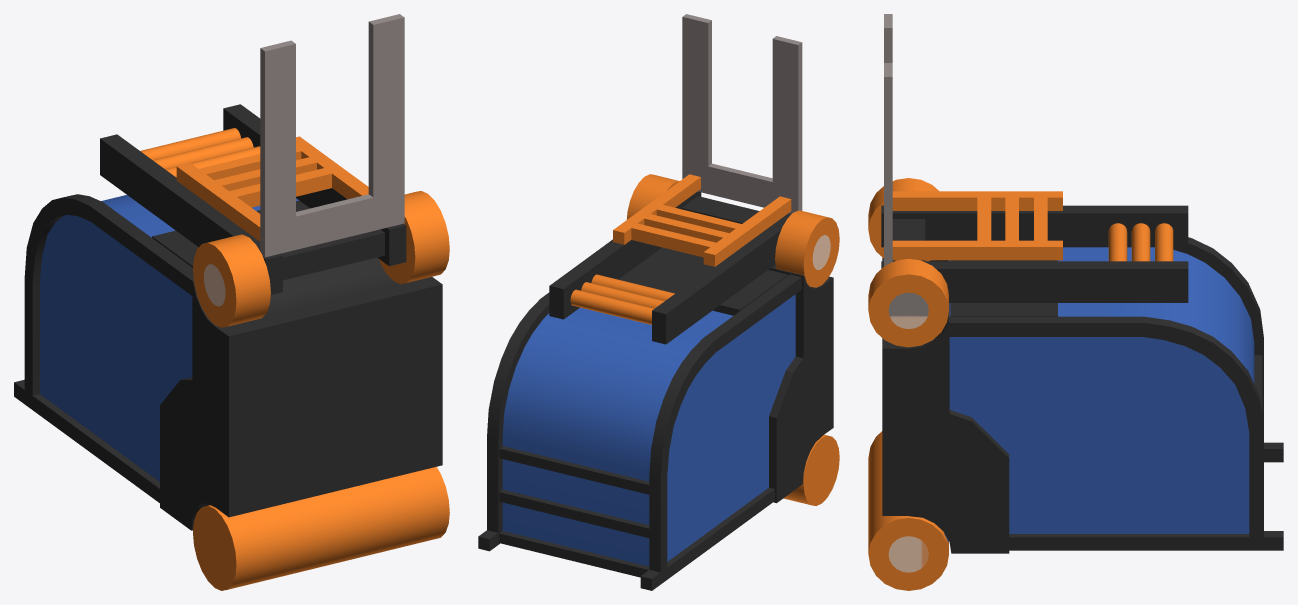
Rendered from ChaChe1_Mo.fbx.
3 renders of one model, left to right at view 1: azimuth 30°, elevation 25°; view 2: azimuth 150°, elevation 25°; view 3: azimuth 270°, elevation 25°, orthographic. The views are drawn at different scales.
Parts seen in each view (by area): view 1: Box035; view 2: Box035; view 3: Box035.
Part boxes in pixels (x1,y1,x2,y2): Box035: [14, 14, 449, 590]; Box035: [478, 14, 839, 590]; Box035: [868, 14, 1283, 590].
Bounding box in the file's own units: 155 × 372 × 282.
1 material, 1 textured.
